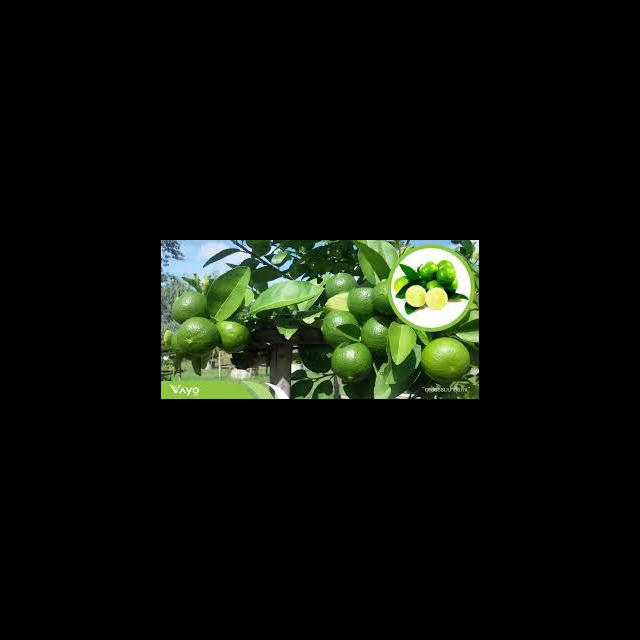lime: (419, 333, 469, 385), (329, 341, 376, 388), (176, 316, 218, 359), (318, 308, 363, 348), (360, 316, 400, 356), (169, 289, 213, 324), (215, 318, 254, 355), (345, 282, 382, 318), (371, 276, 401, 318), (323, 270, 360, 303), (424, 287, 448, 310), (404, 285, 426, 308), (436, 265, 458, 286), (418, 261, 438, 283)
